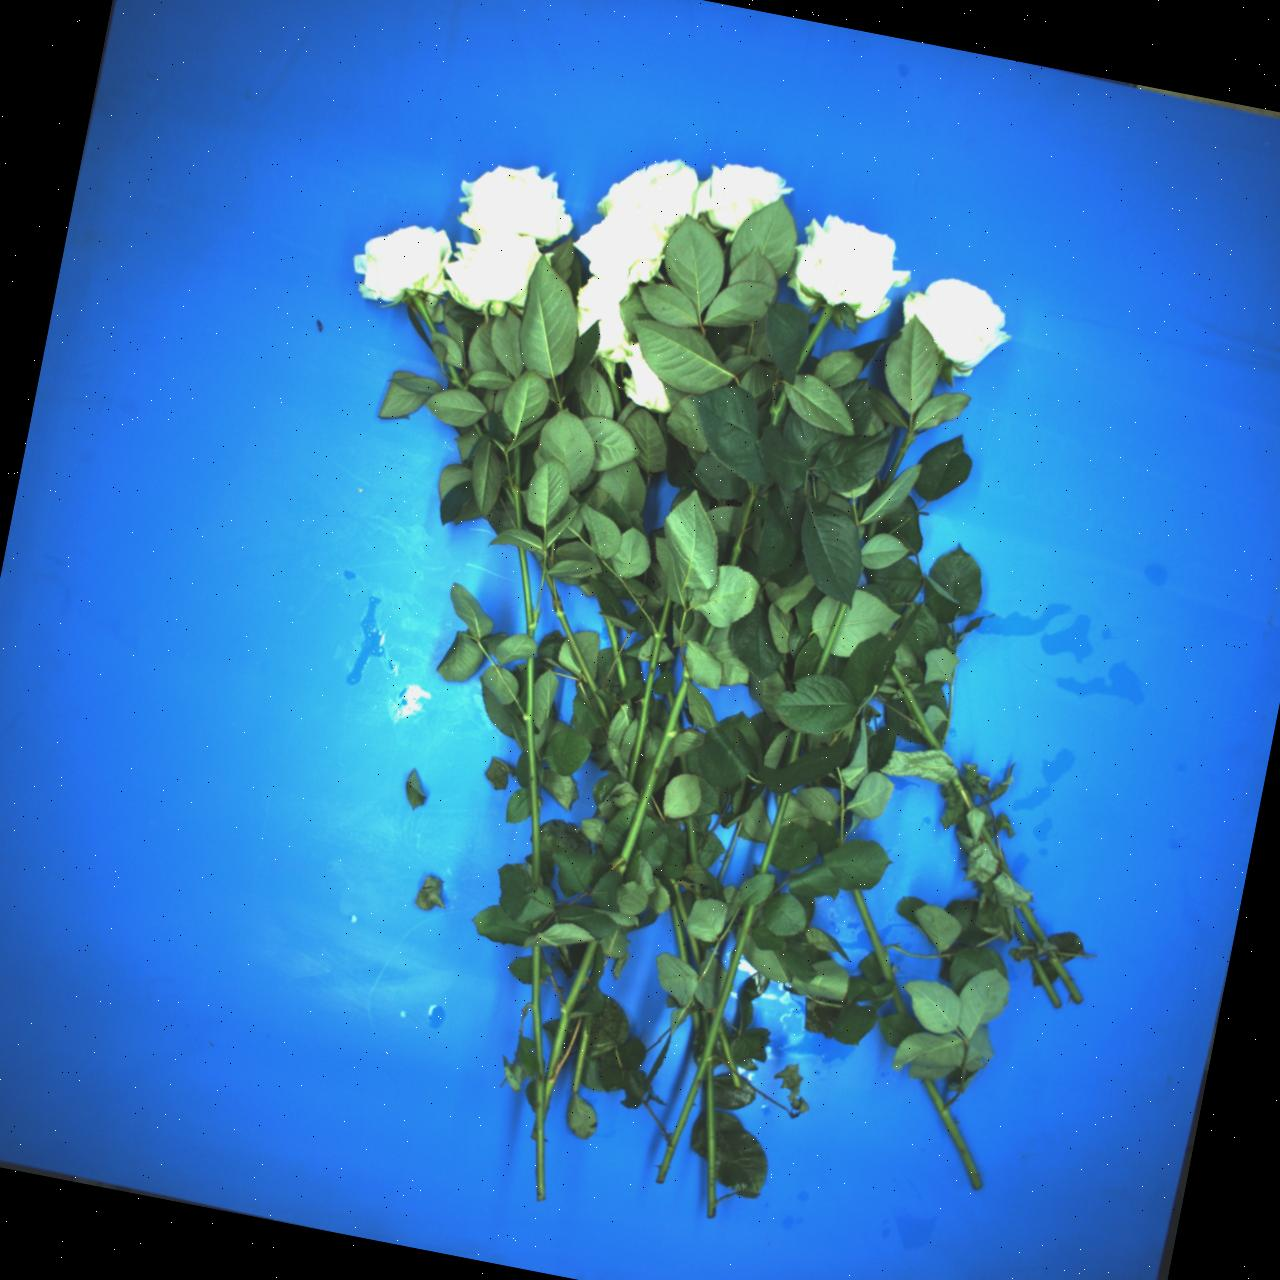Stem: (656, 901, 756, 1186), (611, 667, 700, 863), (527, 549, 621, 728), (527, 935, 598, 1123), (621, 592, 673, 785), (914, 1075, 988, 1190), (851, 885, 908, 1017), (1017, 904, 1084, 1005), (520, 655, 542, 884), (1009, 919, 1062, 1009), (888, 663, 941, 754), (530, 946, 547, 1201), (788, 305, 833, 372), (873, 430, 917, 499), (758, 790, 791, 876), (728, 483, 760, 567), (813, 602, 846, 676), (516, 545, 538, 639), (978, 828, 1013, 880), (604, 615, 627, 689), (706, 1056, 716, 1219), (716, 1024, 742, 1090), (571, 1016, 592, 1092), (669, 877, 692, 931), (670, 905, 689, 967), (510, 445, 523, 530), (413, 294, 437, 334), (606, 372, 625, 420), (442, 361, 468, 394), (952, 777, 975, 812), (767, 390, 789, 427), (683, 816, 700, 865), (687, 932, 704, 972), (688, 999, 702, 1035), (789, 731, 803, 765), (699, 624, 717, 648), (700, 1009, 712, 1041), (502, 485, 517, 509), (866, 520, 877, 544), (693, 880, 703, 900), (666, 690, 676, 709), (472, 423, 484, 437), (679, 756, 688, 774)
flower: (781, 207, 921, 336), (893, 256, 1021, 386), (682, 137, 794, 244), (597, 144, 704, 238), (349, 219, 461, 309), (568, 202, 670, 292), (461, 165, 574, 244), (444, 234, 544, 312), (607, 342, 676, 424), (576, 275, 634, 366)
